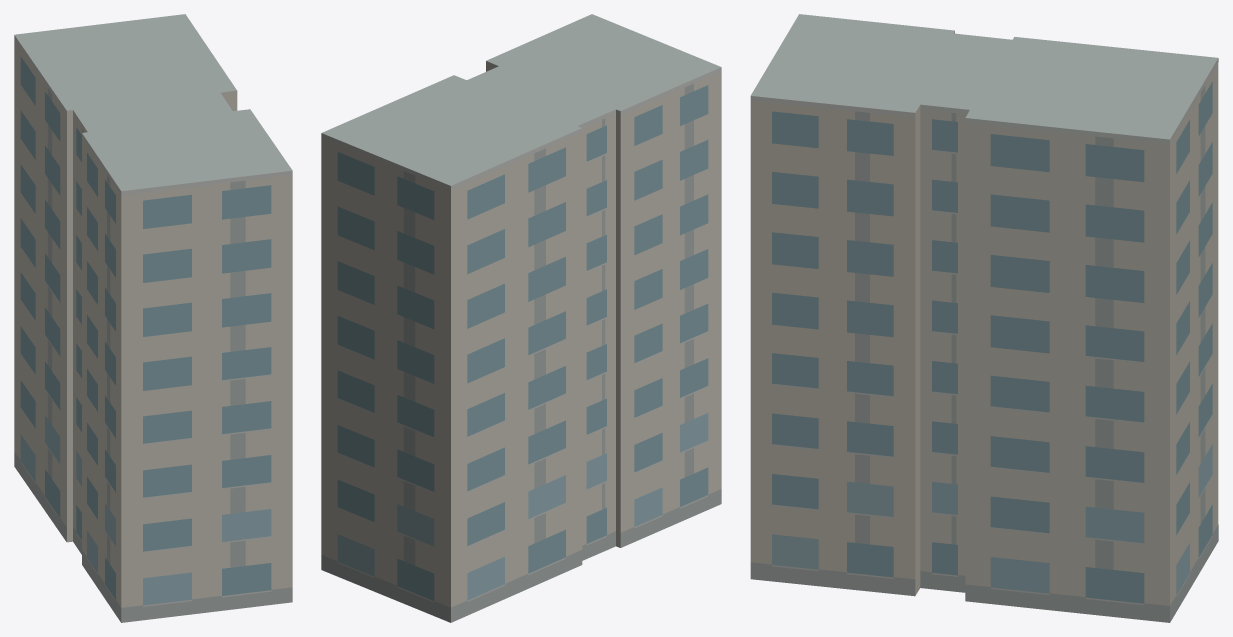
Rendered from survey-upis-32873342.glb.
The picture shows the model from 3 angles, left to right: view 1: azimuth 30°, elevation 25°; view 2: azimuth 150°, elevation 25°; view 3: azimuth 270°, elevation 25°; orthographic projection. The views are drawn at different scales.
Parts seen in each view (by area): view 1: survey-upis-32873342.tmp; view 2: survey-upis-32873342.tmp; view 3: survey-upis-32873342.tmp.
Part boxes in pixels (box(x1,y1,x2,y2)): survey-upis-32873342.tmp: box(14, 14, 292, 622); survey-upis-32873342.tmp: box(321, 14, 721, 622); survey-upis-32873342.tmp: box(750, 14, 1218, 622).
Bounding box in the file's own units: 13.66 × 24.5 × 21.51.
